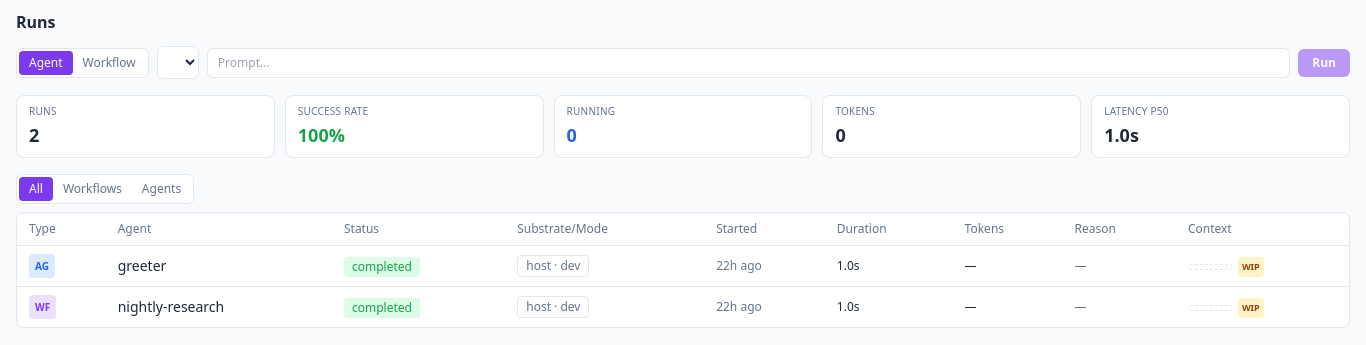
RunsView filter › filters to workflows / agents
Expected: the text "greeter" is shown, [106,246,332,286]
Expected: the text "nightly-research" is shown, [106,286,332,327]
Click the button "Workflows" at (92, 189), box [53,177,132,201]
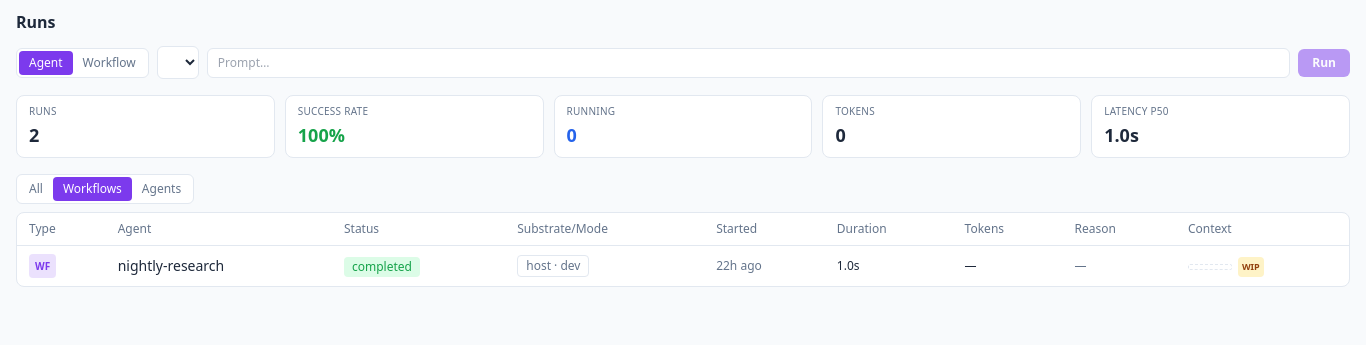
Expected: the text "nightly-research" is shown, [106,246,332,286]
Expected: the text "greeter" is gone
